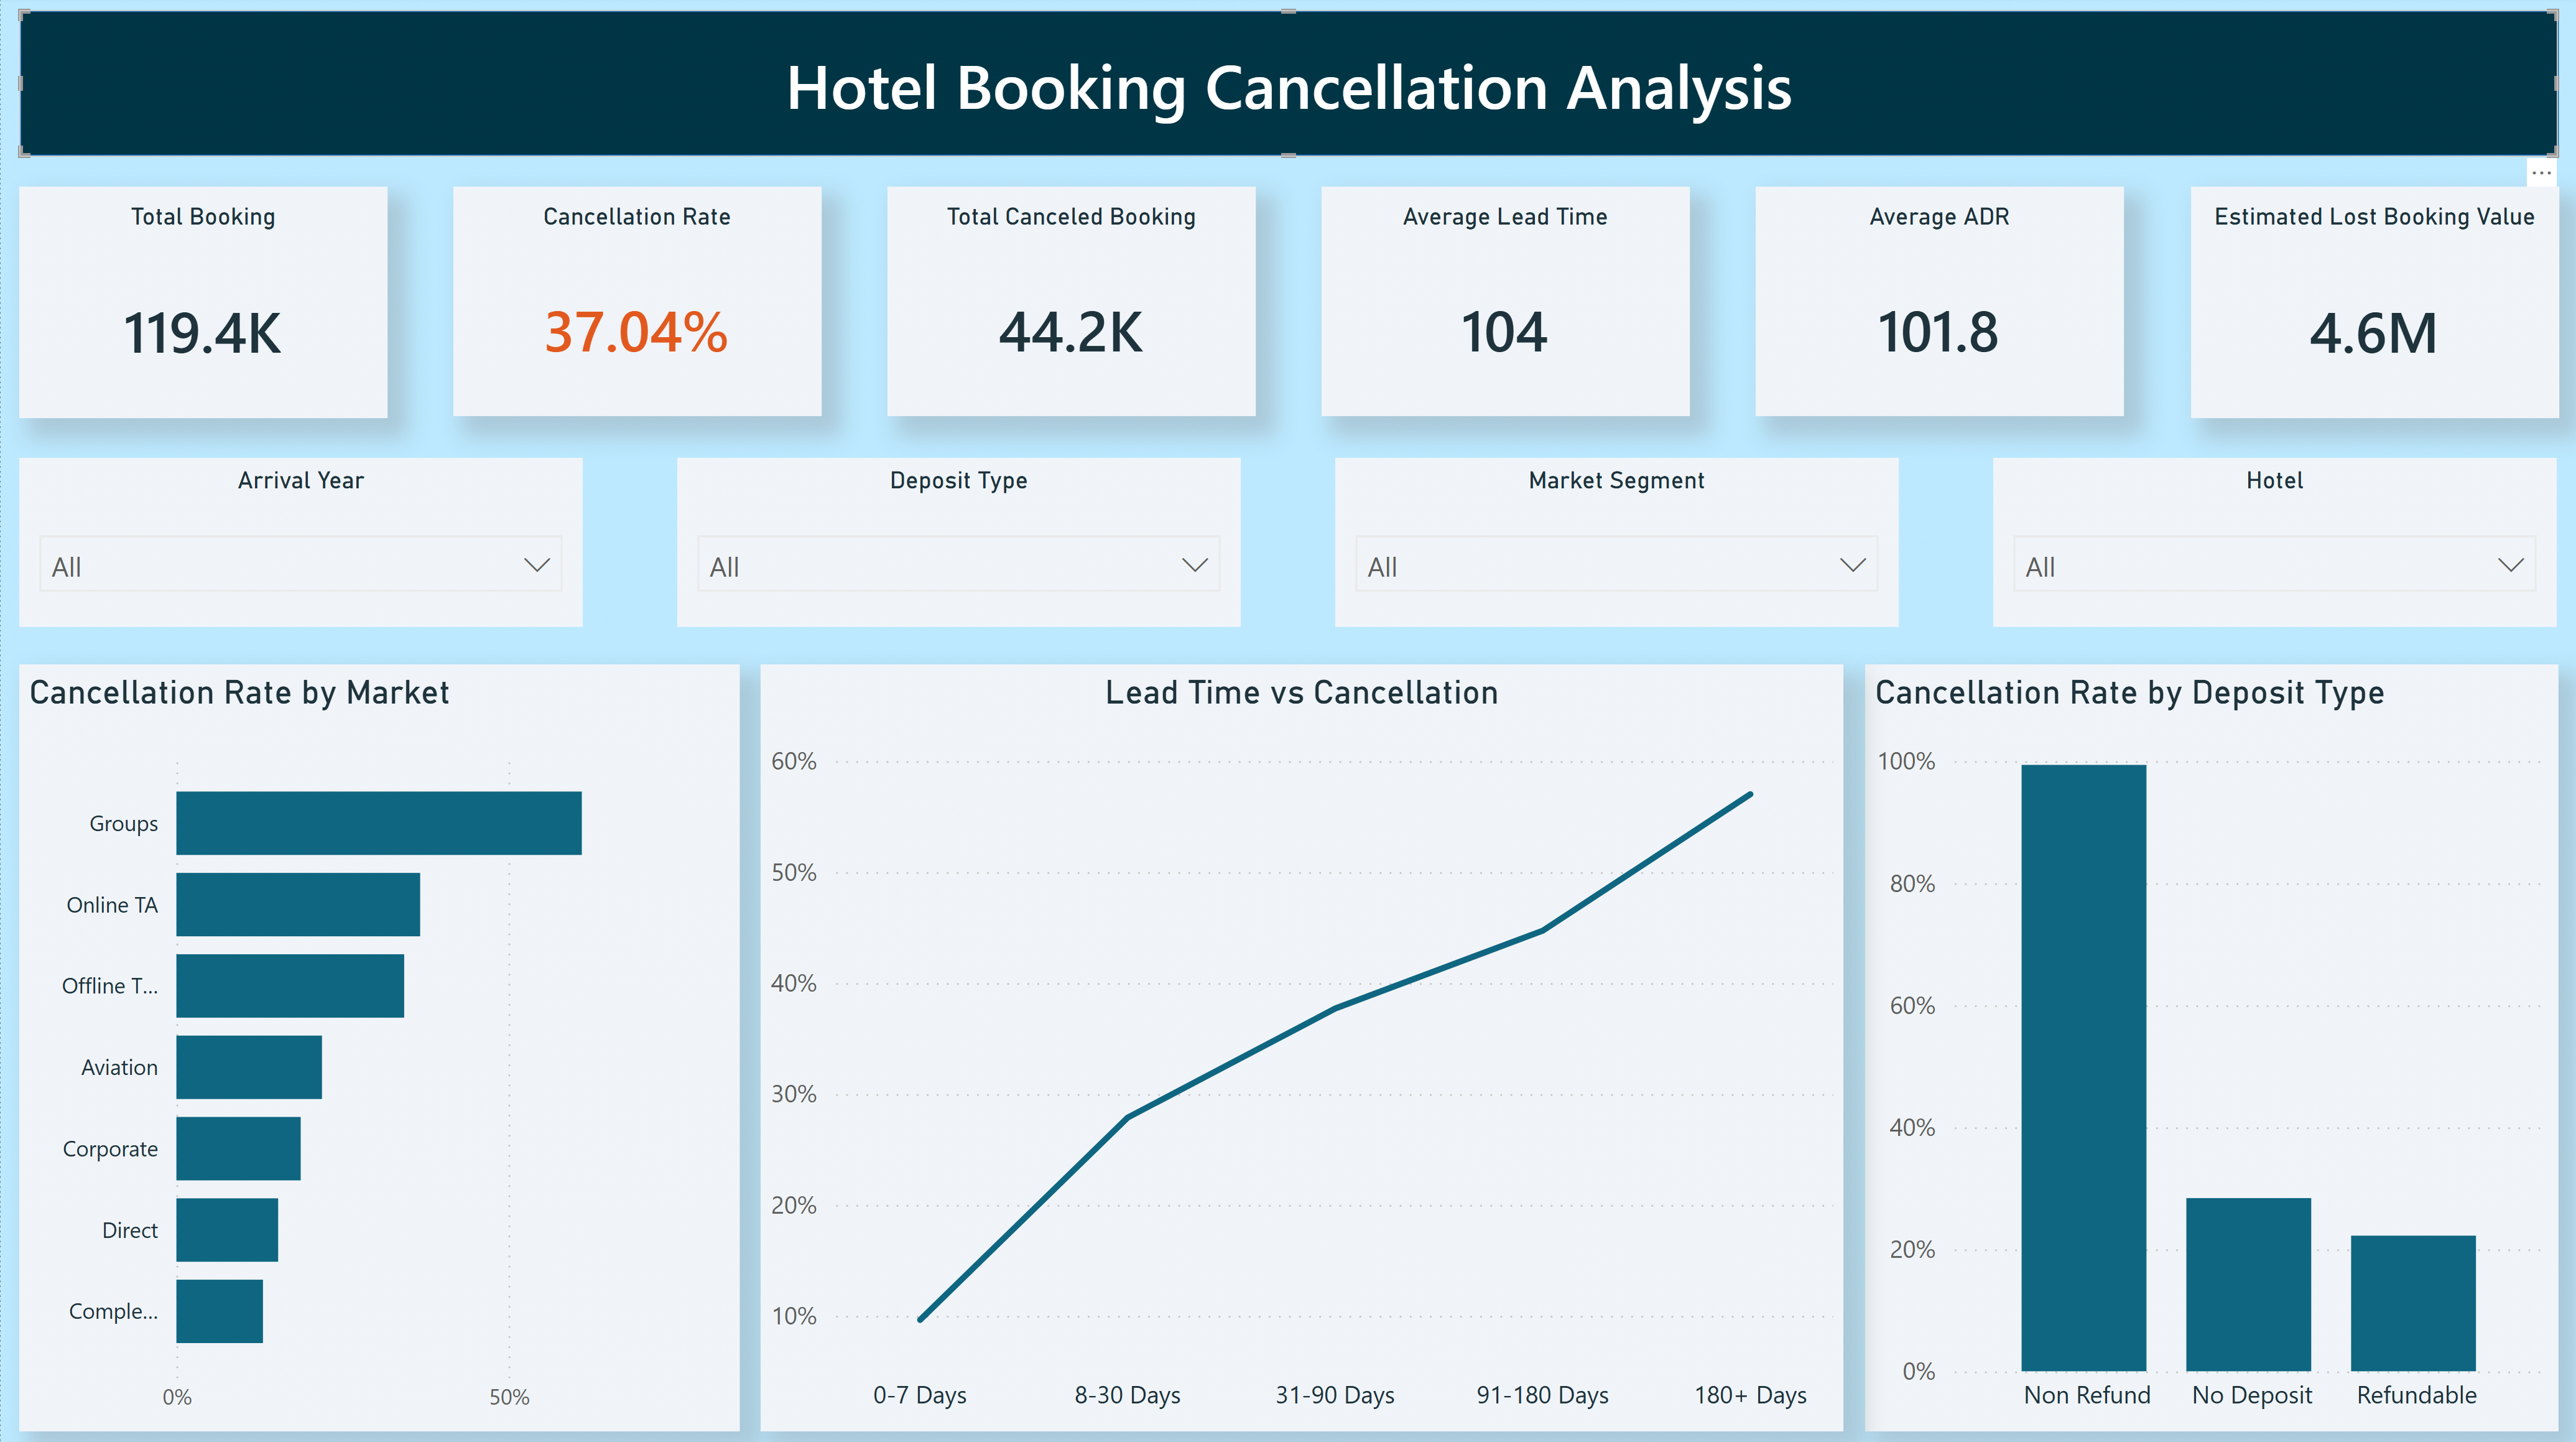

What the dashboard file says about the page in this screenshot:
{"tool":"powerbi","page":{"name":"Page 1","canvas":[1280,720],"ordinal":0},"visuals":[{"type":"cardVisual","title":"Total Booking","fields":{"Data":["CountNonNull(hotel_bookings_clean.hotel)"]},"box":[9.1,94.6,182.9,114.9],"z":0},{"type":"cardVisual","title":"Cancellation Rate ","fields":{"Data":["hotel_bookings_clean.Cancellation rate"]},"box":[224.9,94.6,182.9,114.2],"z":1000},{"type":"cardVisual","title":"Total Canceled Booking","fields":{"Data":["hotel_bookings_clean.canceled booking"]},"box":[440.7,94.6,182.9,114.2],"z":2000},{"type":"cardVisual","title":"Average Lead Time","fields":{"Data":["Avg(hotel_bookings_clean.lead_time)"]},"box":[656.5,94.6,182.9,114.2],"z":3000},{"type":"cardVisual","title":"Average ADR","fields":{"Data":["Avg(hotel_bookings_clean.adr)"]},"box":[872.2,94.6,182.9,114.2],"z":4000},{"type":"cardVisual","title":"Estimated Lost Booking Value","fields":{"Data":["Sum(hotel_bookings_clean.adr)"]},"box":[1088,94.6,182.9,114.9],"z":5000},{"type":"clusteredBarChart","title":"Cancellation Rate by Market ","fields":{"Category":["hotel_bookings_clean.market_segment"],"Y":["hotel_bookings_clean.Cancellation rate"]},"box":[9.1,332.1,358,381.1],"z":6000},{"type":"clusteredColumnChart","title":"Cancellation Rate by Deposit Type","fields":{"Category":["hotel_bookings_clean.deposit_type"],"Y":["hotel_bookings_clean.Cancellation rate"]},"box":[926.2,332.1,344.7,381.1],"z":7000},{"type":"lineChart","title":"Lead Time vs Cancellation","fields":{"Category":["hotel_bookings_clean.Lead Time Segment"],"Y":["hotel_bookings_clean.Cancellation rate"]},"box":[377.6,332.1,538.1,381.1],"z":8000},{"type":"slicer","title":"Hotel","fields":{"Values":["hotel_bookings_clean.hotel"]},"box":[990,229.1,280,84.1],"z":9000},{"type":"slicer","title":"Market Segment","fields":{"Values":["hotel_bookings_clean.market_segment"]},"box":[663,229.1,280,84.1],"z":10000},{"type":"slicer","title":"Deposit Type","fields":{"Values":["hotel_bookings_clean.deposit_type"]},"box":[336.1,229.1,280,84.1],"z":11000},{"type":"slicer","title":"Arrival Year","fields":{"Values":["hotel_bookings_clean.arrival_date_year"]},"box":[9.1,229.1,280,84.1],"z":12000},{"type":"shape","box":[9.1,7,1261.8,72.9],"z":13000}]}

Visuals, with their boxes in screenshot pixels (x1, y1, x2, y2), scaled from the page's 1280x720 canvas onto the 2576x1442 screenshot:
"Total Booking" cardVisual: 18:190:386:419
"Cancellation Rate " cardVisual: 453:190:821:418
"Total Canceled Booking" cardVisual: 887:190:1255:418
"Average Lead Time" cardVisual: 1321:190:1689:418
"Average ADR" cardVisual: 1755:190:2123:418
"Estimated Lost Booking Value" cardVisual: 2190:190:2558:419
"Cancellation Rate by Market " clusteredBarChart: 18:665:739:1428
"Cancellation Rate by Deposit Type" clusteredColumnChart: 1864:665:2558:1428
"Lead Time vs Cancellation" lineChart: 760:665:1843:1428
"Hotel" slicer: 1993:459:2556:627
"Market Segment" slicer: 1334:459:1897:627
"Deposit Type" slicer: 677:459:1240:627
"Arrival Year" slicer: 18:459:582:627
shape: 18:14:2558:160
